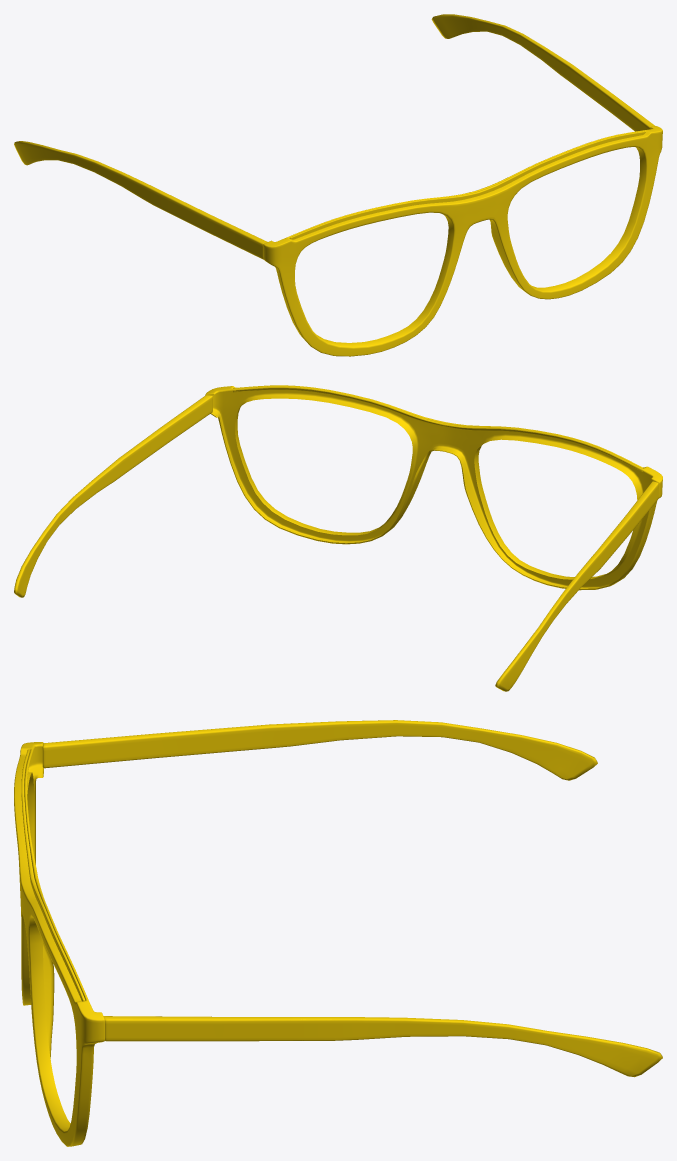
Rendered from yellow_glasses.glb.
The picture shows the model from 3 angles, top to bottom: view 1: azimuth 30°, elevation 25°; view 2: azimuth 150°, elevation 25°; view 3: azimuth 270°, elevation 25°; orthographic projection. The views are drawn at different scales.
Parts seen in each view (by area): view 1: am_body; view 2: am_body; view 3: am_body.
Part boxes in pixels (x1,y1,x2,y2): am_body: (14, 14, 662, 356); am_body: (14, 385, 662, 691); am_body: (14, 720, 662, 1146).
Bounding box in the file's own units: 0.165 × 0.049 × 0.1455.
